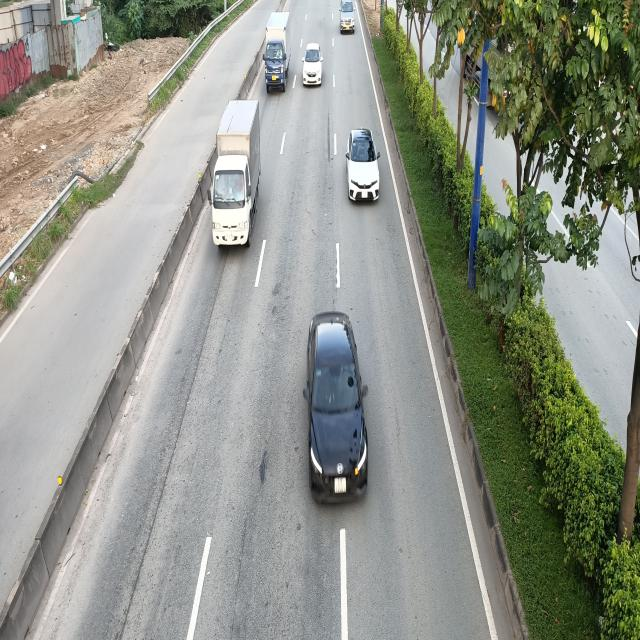car: (306, 310, 371, 497), (344, 128, 380, 202), (303, 44, 324, 88), (340, 0, 356, 34)
truck: (206, 101, 262, 252), (264, 10, 290, 91)
